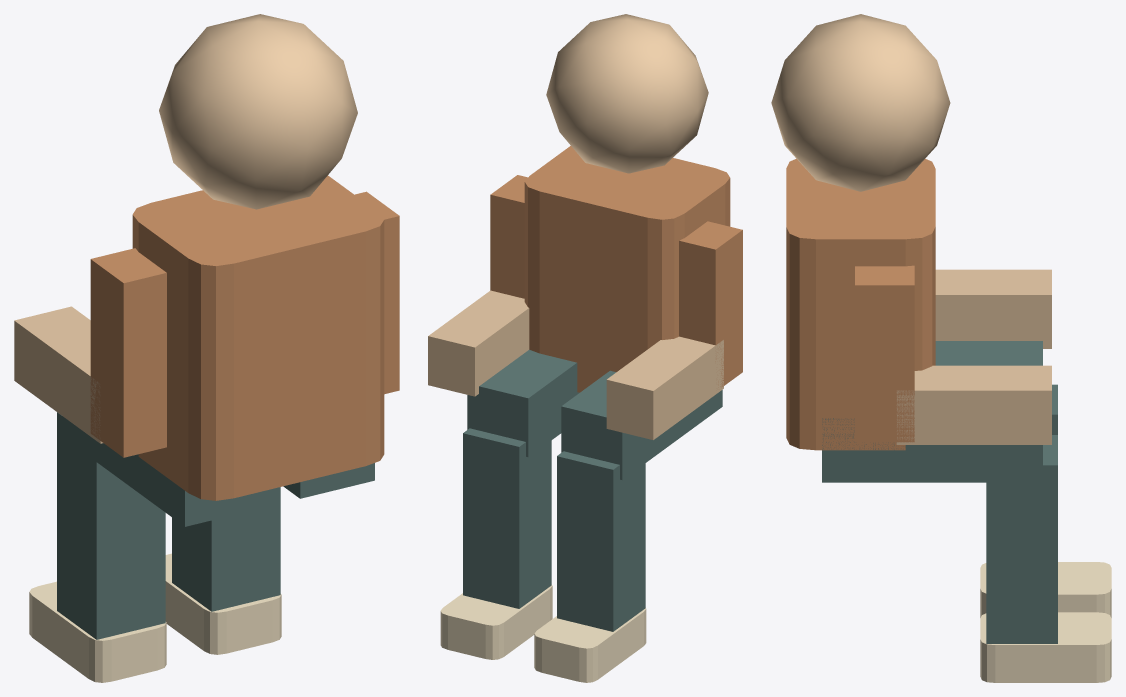
The model's file is mannequin-seated.glb.
3 renders of one model, left to right at view 1: azimuth 30°, elevation 25°; view 2: azimuth 150°, elevation 25°; view 3: azimuth 270°, elevation 25°, orthographic. The views are drawn at different scales.
Visible parts, largest first — view 1: mannequin-seated; view 2: mannequin-seated; view 3: mannequin-seated.
Boxes of the visible parts, x1,y1,x2,y2 form: mannequin-seated: (14, 14, 399, 682); mannequin-seated: (428, 14, 742, 682); mannequin-seated: (771, 14, 1111, 682).
Bounding box in the file's own units: 0.48 × 1.15 × 0.57.
